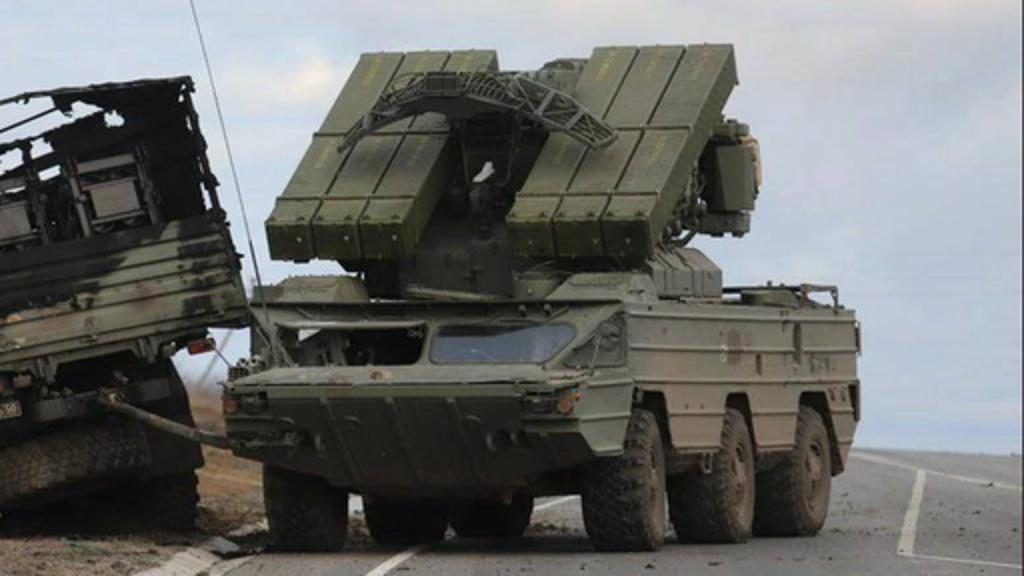MLRS: (228, 34, 868, 544)
